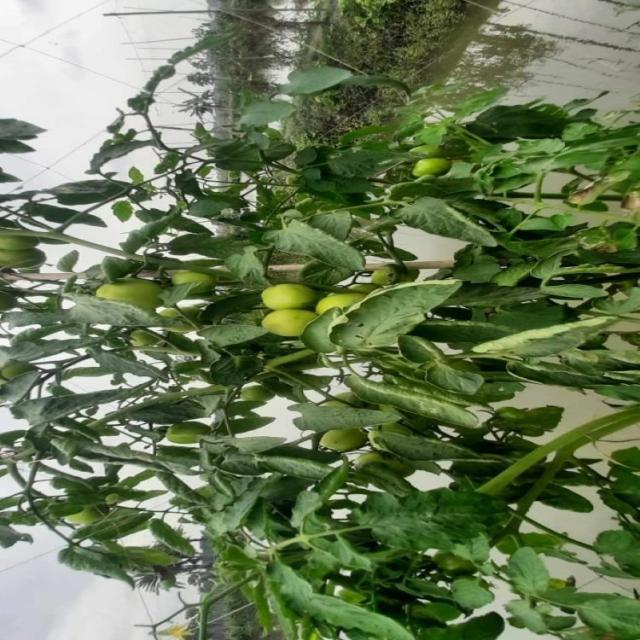tomato: (259, 277, 323, 320), (98, 276, 160, 317), (1, 225, 47, 274), (259, 307, 319, 341), (320, 423, 372, 457), (56, 502, 112, 529), (416, 148, 453, 184), (320, 287, 358, 314), (175, 268, 210, 297), (168, 421, 210, 445)
